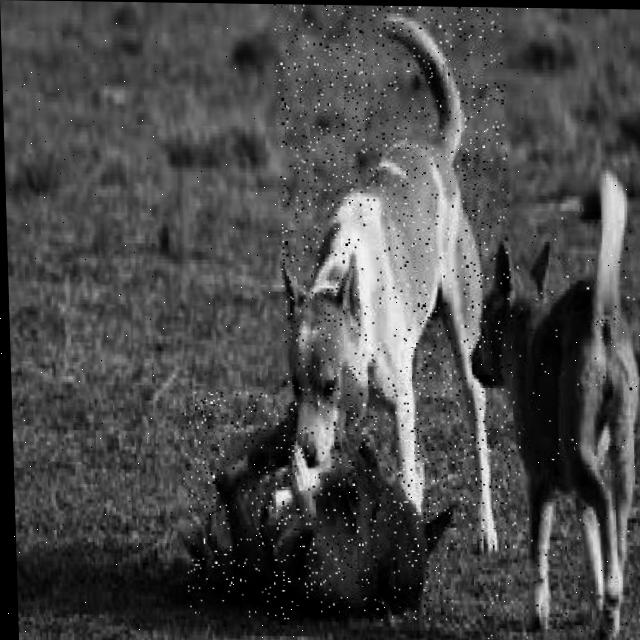Dog: (274, 4, 521, 549), (463, 200, 640, 640), (181, 392, 455, 623)
